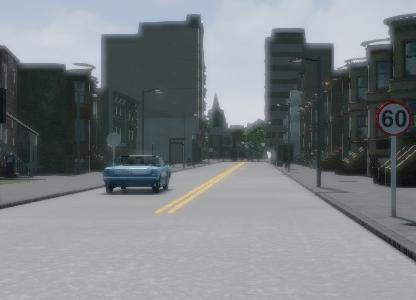Speed_60: (375, 98, 414, 138)
